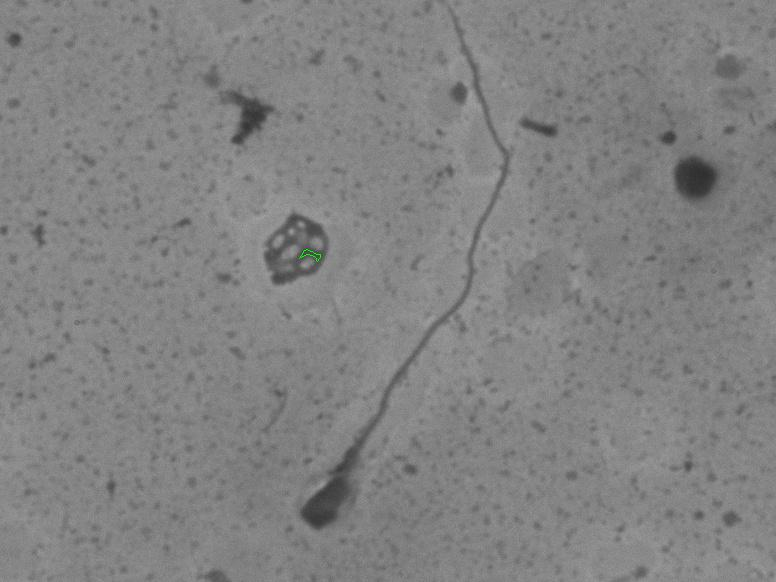Abnormal: (284, 11, 521, 549)
